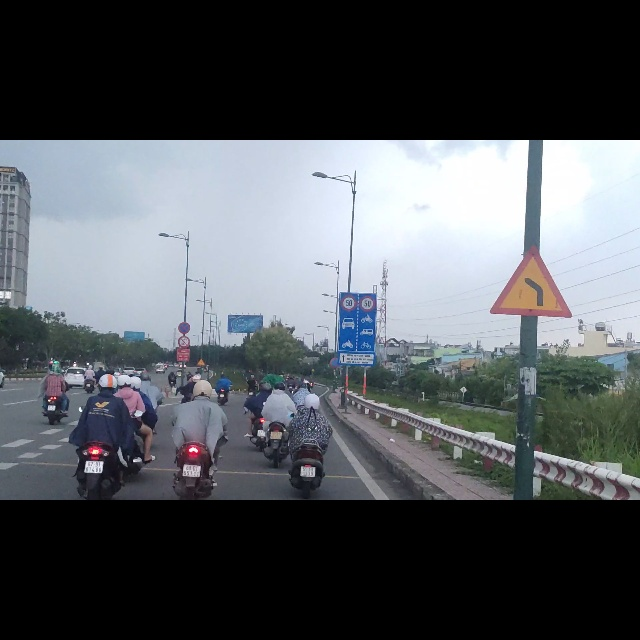bien_cam: (488, 184, 574, 318), (358, 275, 375, 305), (340, 275, 357, 304), (178, 321, 191, 345), (177, 348, 191, 370), (197, 386, 205, 402)
